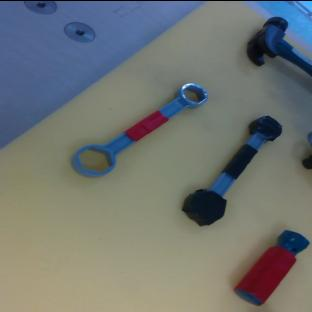part_2_good: (232, 222, 311, 310)
part_3_bad: (177, 108, 291, 233)
part_3_good: (66, 70, 212, 187)
